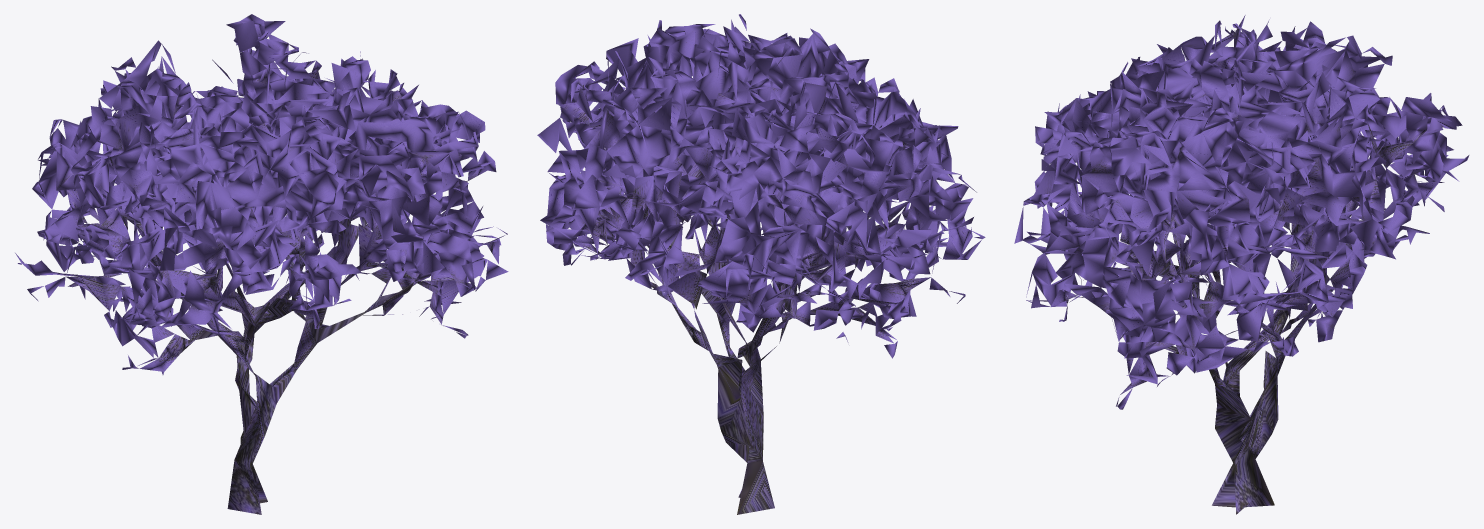
File: jacaranda.glb
3 renders of one model, left to right at view 1: azimuth 30°, elevation 25°; view 2: azimuth 150°, elevation 25°; view 3: azimuth 270°, elevation 25°, orthographic. The views are drawn at different scales.
Bounding box in the file's own units: 1.79 × 1.87 × 1.57.
1 material, 1 textured.
